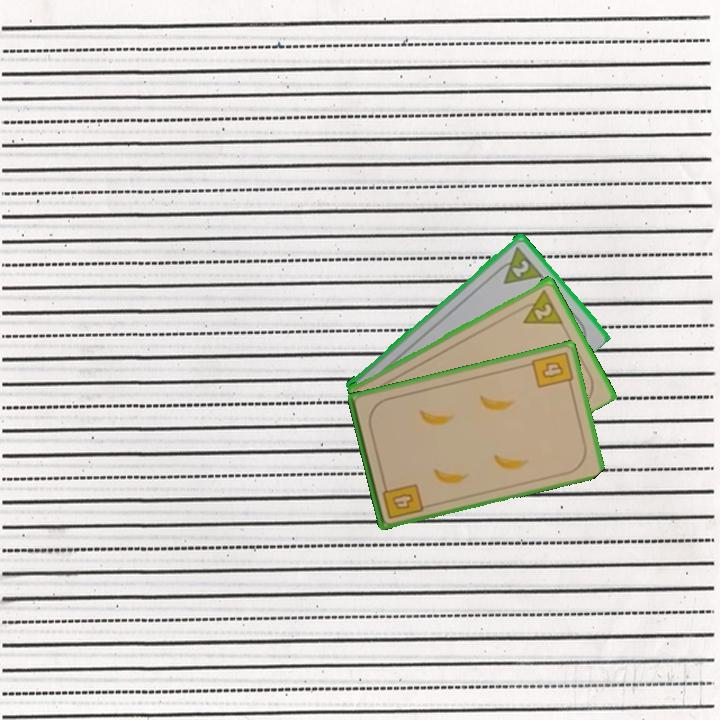2p: (491, 242, 544, 287), (514, 284, 565, 327)
4b: (528, 348, 576, 391), (379, 478, 426, 521)
